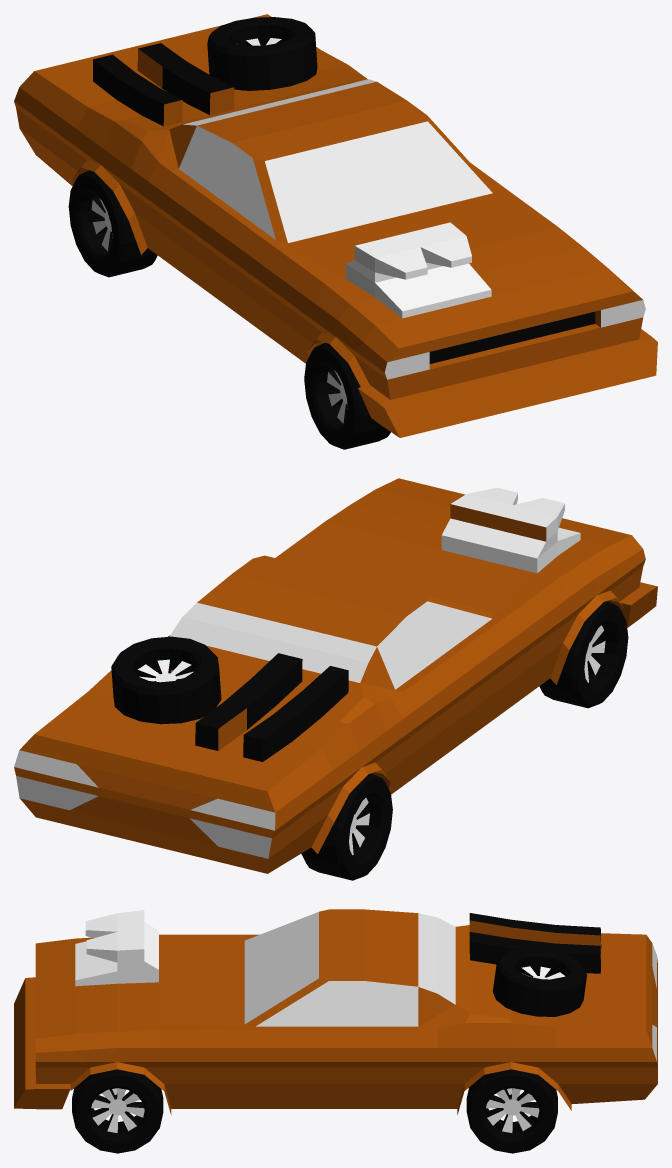
Rendered from Car.fbx.
3 views of the same model, one above another, from view 1: azimuth 30°, elevation 25°; view 2: azimuth 150°, elevation 25°; view 3: azimuth 270°, elevation 25° (orthographic). The views are drawn at different scales.
Parts seen in each view (by area): view 1: Car Main, Wheel4, Wheel2; view 2: Car Main, Wheel4, Wheel2; view 3: Car Main, Wheel1, Wheel3.
Part boxes in pixels (x1=…): Car Main: x1=14, y1=14, x2=657, y2=437; Wheel4: x1=68, y1=170, x2=157, y2=277; Wheel2: x1=304, y1=342, x2=390, y2=449; Car Main: x1=14, y1=478, x2=657, y2=873; Wheel4: x1=301, y1=773, x2=392, y2=880; Wheel2: x1=539, y1=601, x2=628, y2=708; Car Main: x1=14, y1=909, x2=657, y2=1114; Wheel1: x1=72, y1=1069, x2=163, y2=1153; Wheel3: x1=466, y1=1069, x2=557, y2=1153.
Size of the model in its own units: 137 by 89.96 by 332.
